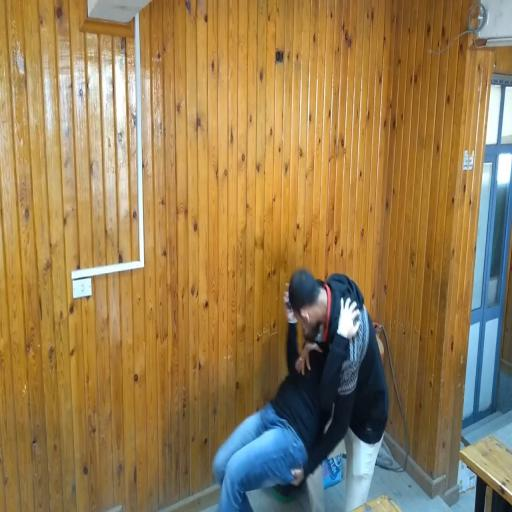violencia: (207, 256, 394, 507)
